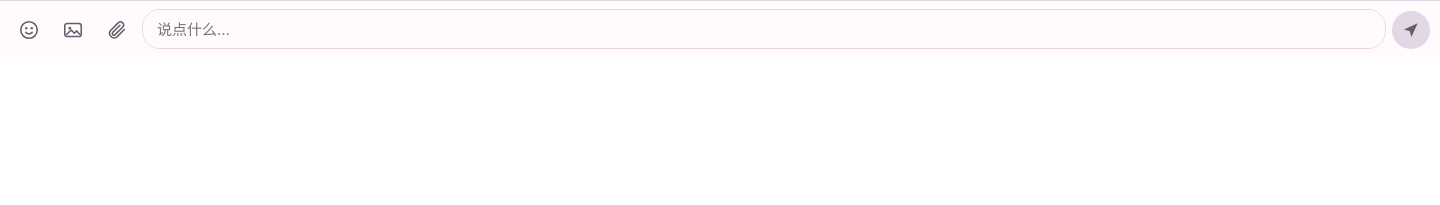
Test: Composer 表情面板 › 表情按钮开关面板
Click the button with test id "btn-sticker" at [29, 30], box left=10, top=11, right=48, bottom=49
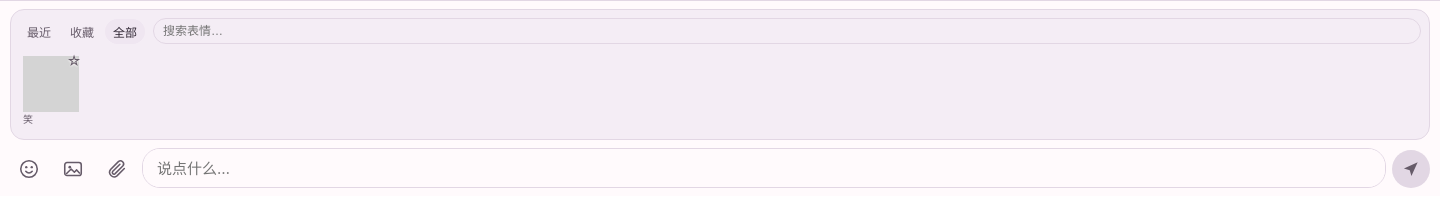
expect the element with test id "sticker-panel" is shown: met
Click the button with test id "btn-sticker" at [29, 169], box left=10, top=150, right=48, bottom=188
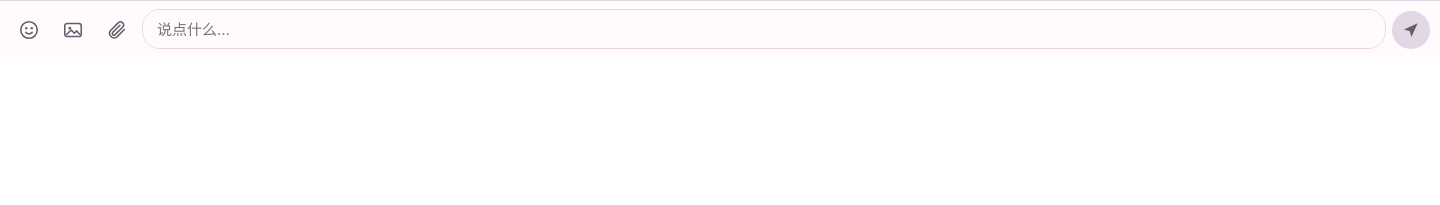
expect the element with test id "sticker-panel" is gone: met
